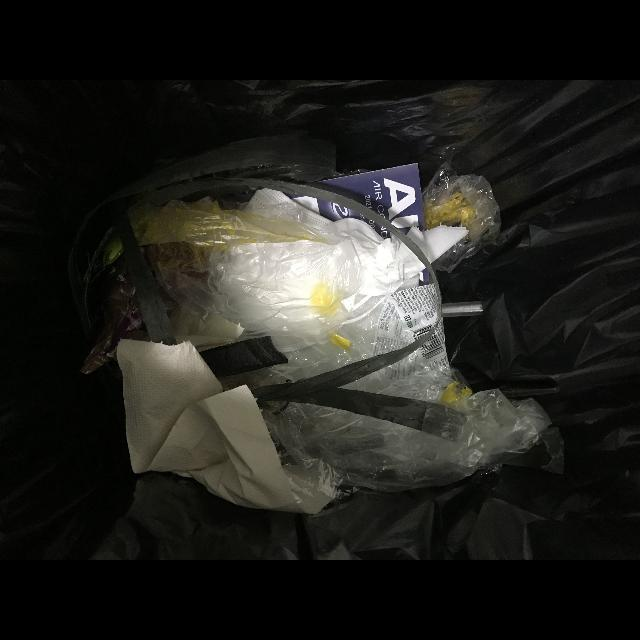paper: (116, 340, 334, 516), (325, 217, 469, 295)
plastic: (126, 195, 362, 336)
